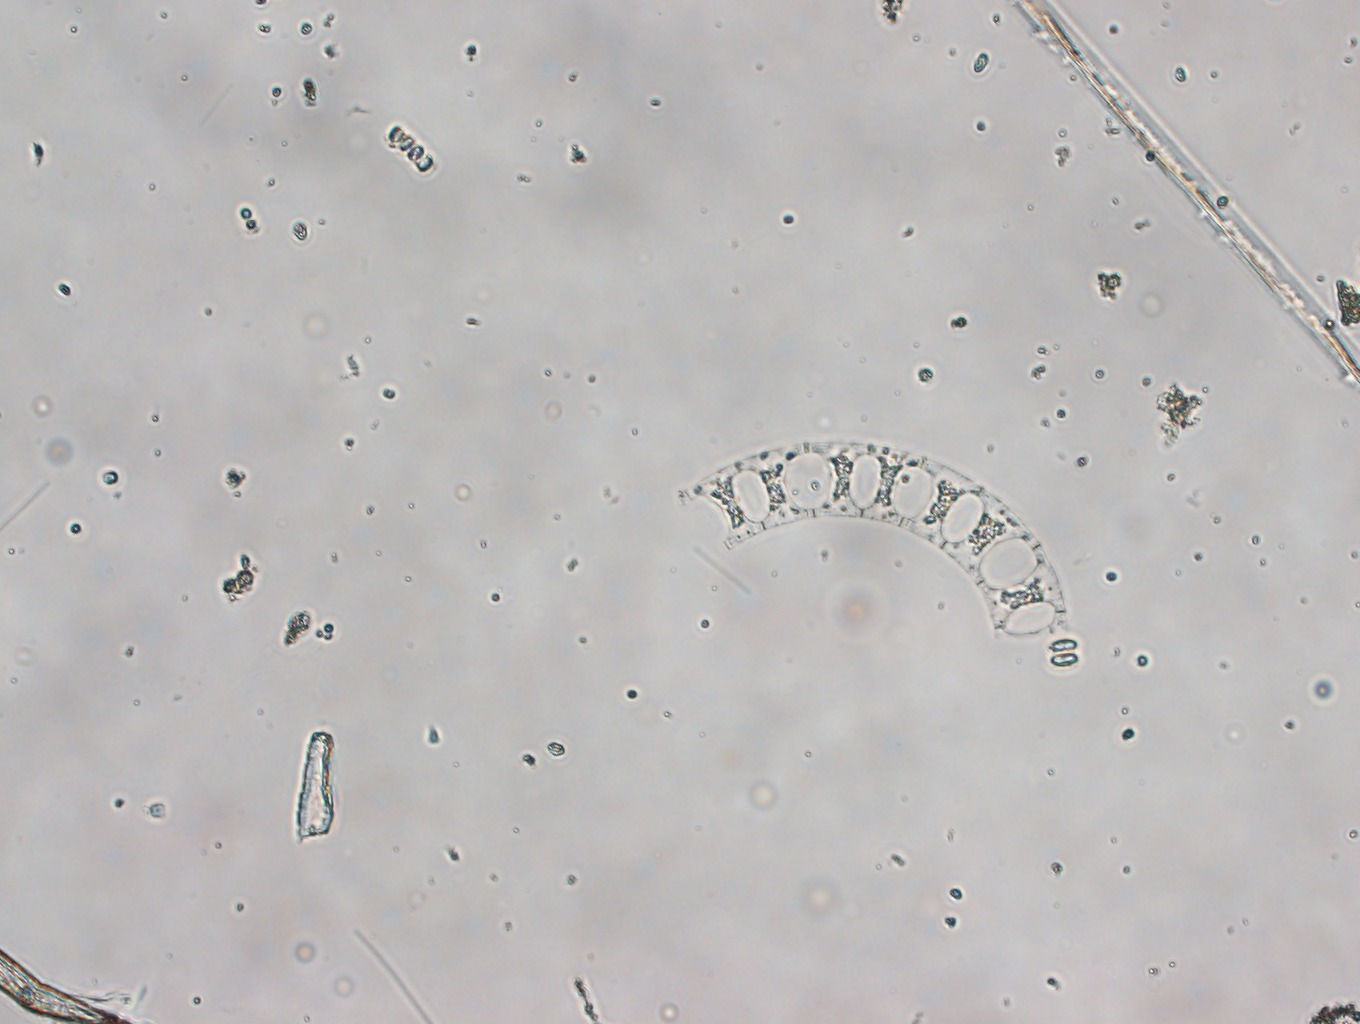eucampia: (677, 441, 1069, 643)
